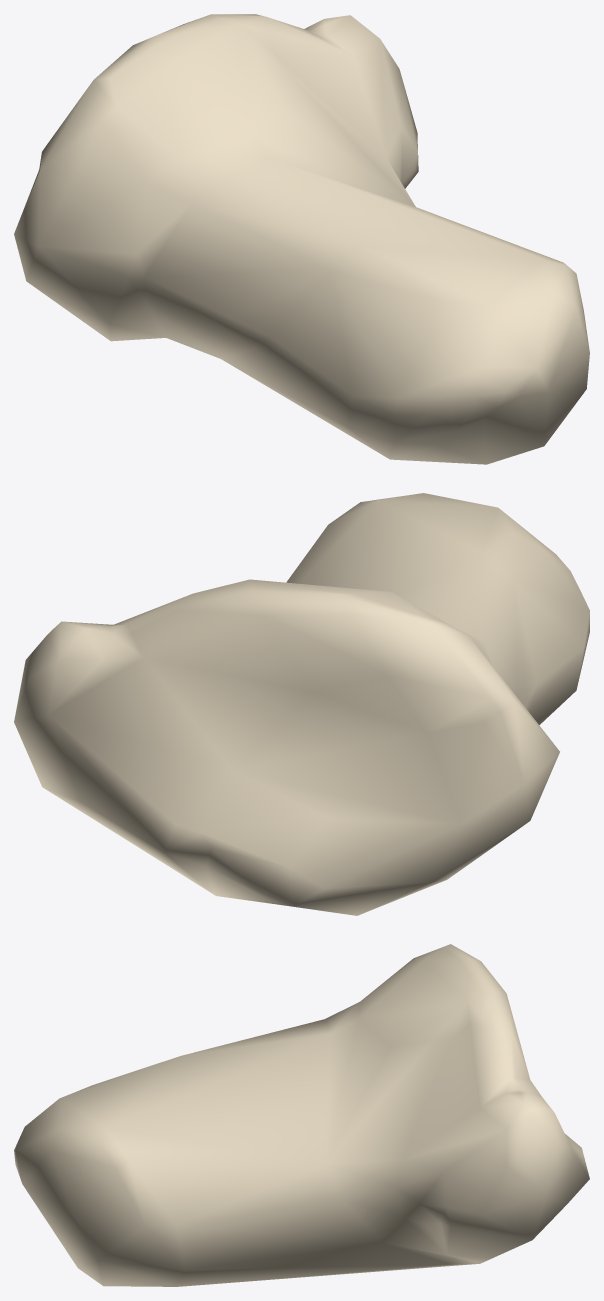
File: distal-phalanx-of-third-finger-of-foot-l.glb
3 renders of one model, top to bottom at view 1: azimuth 30°, elevation 25°; view 2: azimuth 150°, elevation 25°; view 3: azimuth 270°, elevation 25°, orthographic. The views are drawn at different scales.
Parts seen in each view (by area): view 1: Distal phalanx of third finger of foot.l; view 2: Distal phalanx of third finger of foot.l; view 3: Distal phalanx of third finger of foot.l.
Boxes of the visible parts, bbox=[...] form: Distal phalanx of third finger of foot.l: bbox=[14, 14, 589, 464]; Distal phalanx of third finger of foot.l: bbox=[14, 493, 589, 915]; Distal phalanx of third finger of foot.l: bbox=[14, 944, 589, 1286].
Bounding box in the file's own units: 0.00885 × 0.00616 × 0.012.
